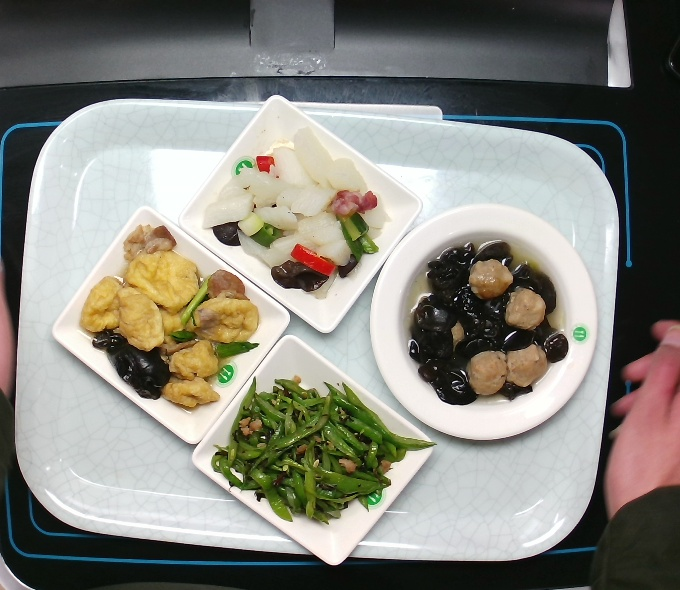wcq-MuErWanZi: (393, 230, 568, 413)
wcq-ShanYao: (219, 132, 383, 302)
wcq-SiJiDouChaoRou: (204, 370, 436, 529)
wcq-YouPaoRouPian: (78, 218, 259, 409)
